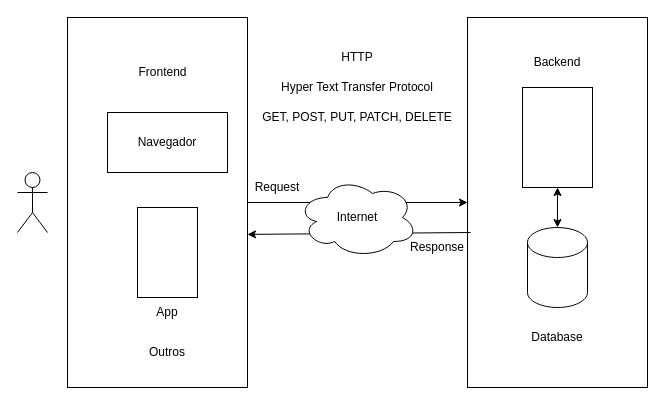
Some shapes in this 665 by 405 pixel diagram are drawn without their labels. The centre of each missing label's shape, as x and y in pixels:
Actor: the point at 32,202
API: the point at 557,137
